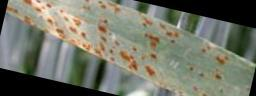Wheat: (94, 17, 168, 78), (19, 2, 93, 52)
